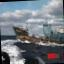fishing boat: (11, 6, 64, 47)
